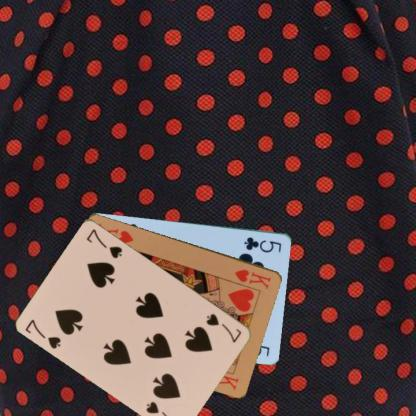5c: (242, 234, 283, 254)
7s: (22, 316, 62, 350), (204, 311, 243, 344)
Kh: (232, 266, 273, 291)
